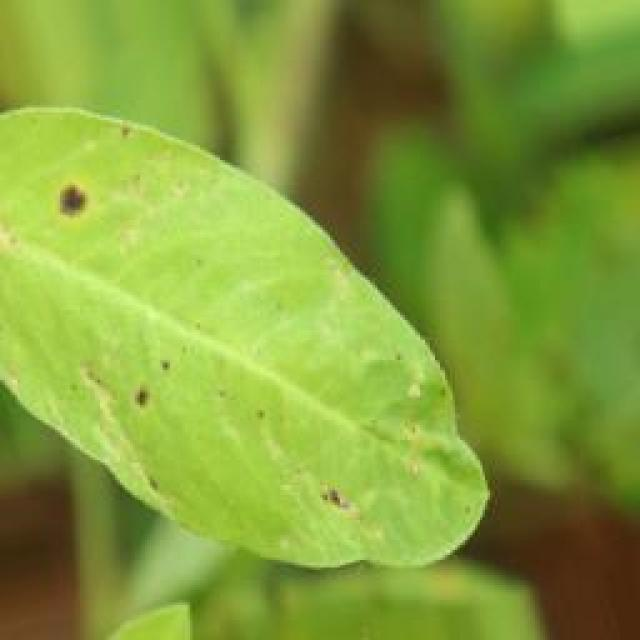Sigatoka: (99, 342, 204, 438), (38, 152, 104, 252), (311, 454, 382, 521), (395, 394, 445, 488)
